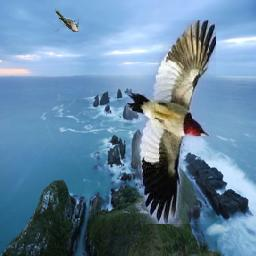Cuckoo: (55, 10, 80, 33)
Woodpecker: (126, 20, 216, 224)
